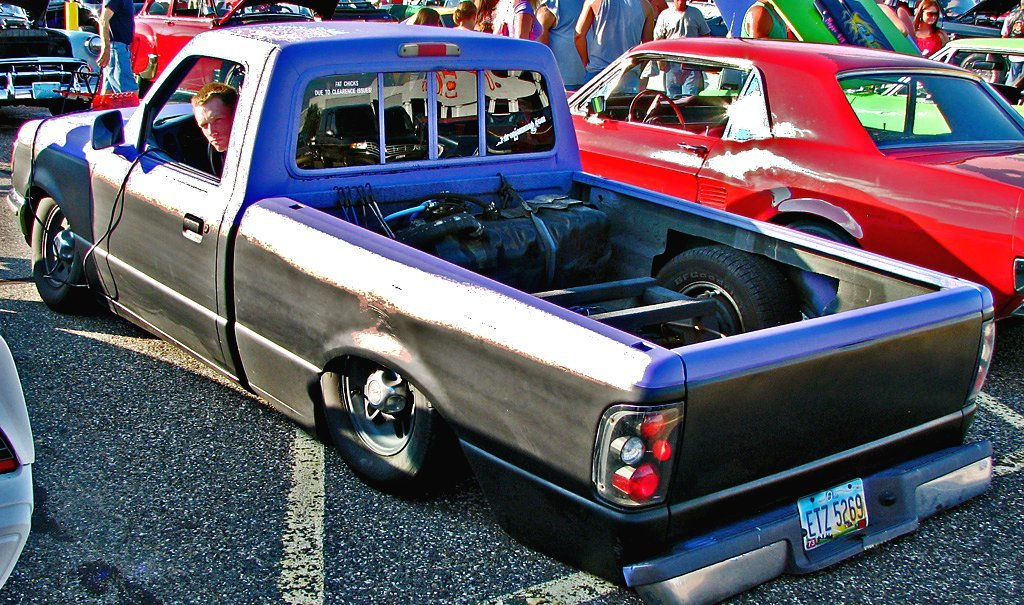car: (11, 15, 999, 605), (528, 27, 1024, 326)
